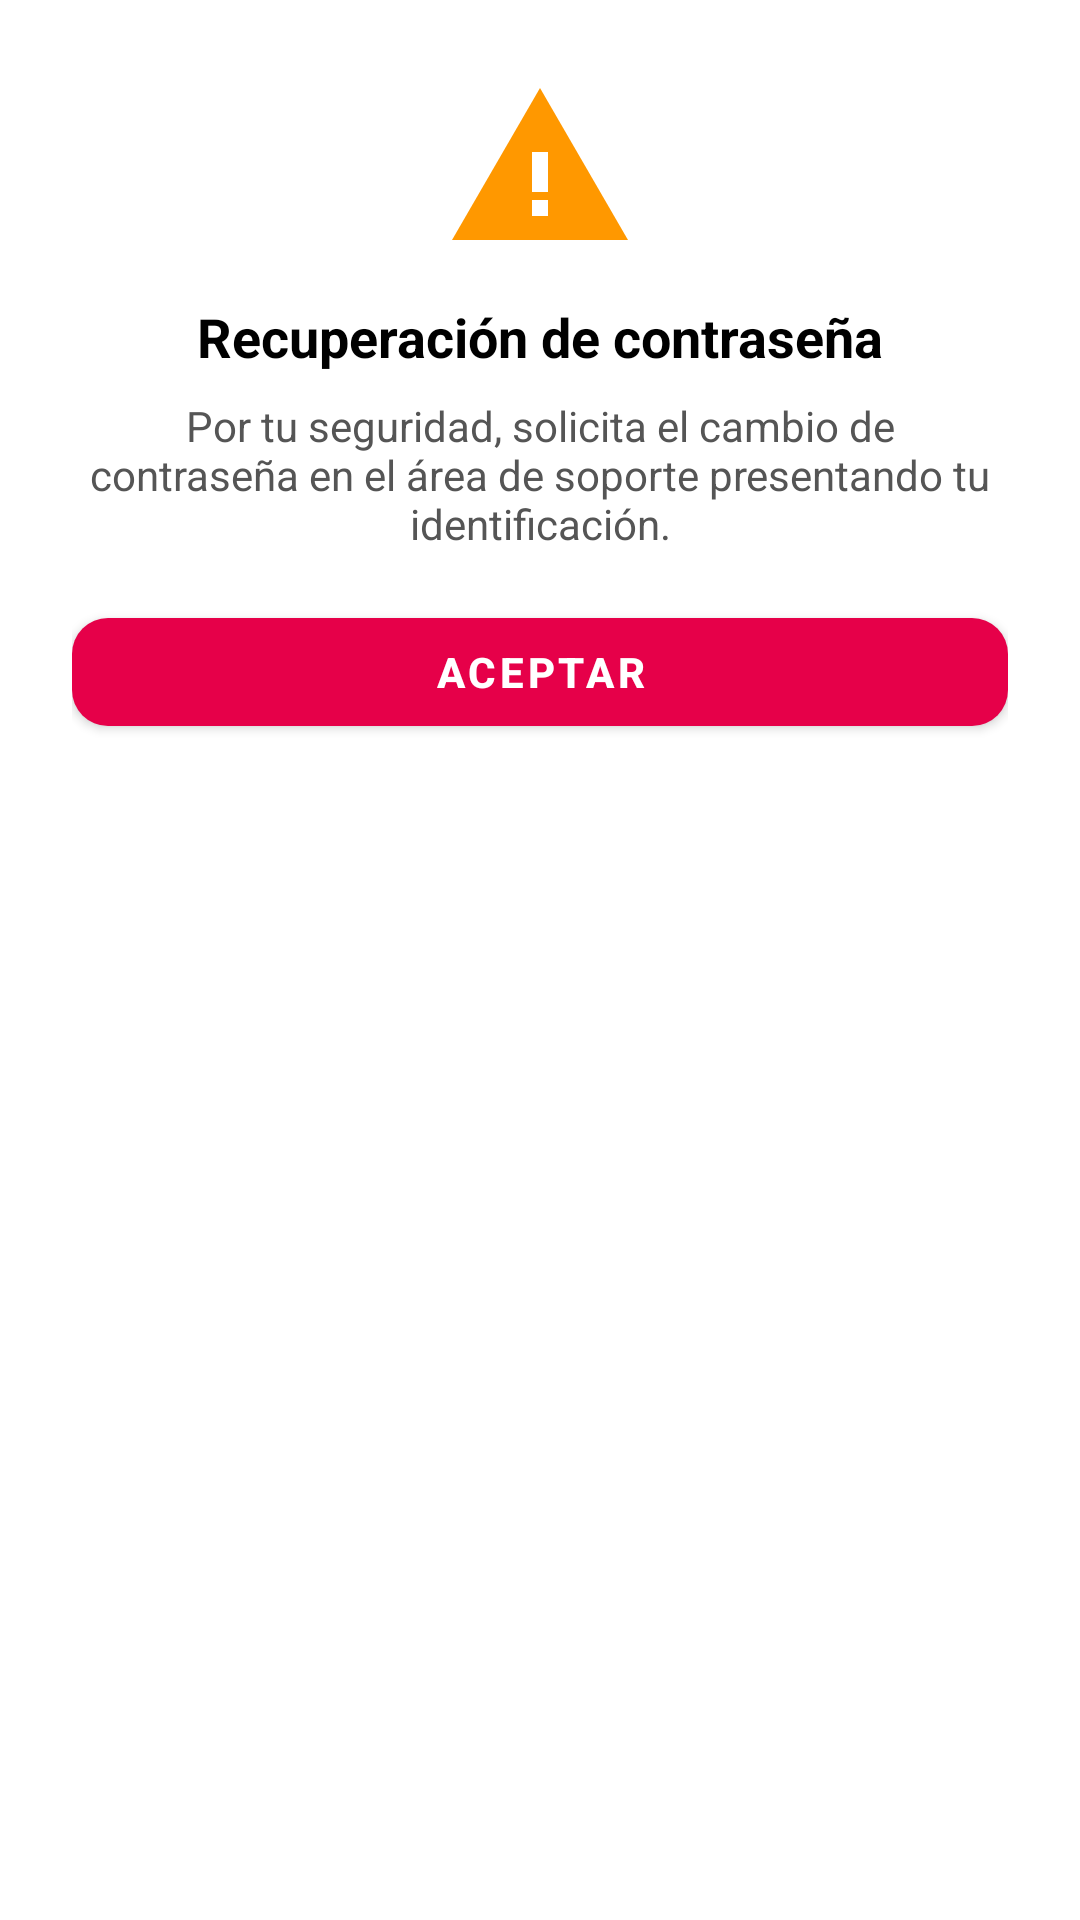

Where icons sit on this 1080w x 1920h app screen, as {"left": x1, "top": y1, "right": x2, "bottom": y2}:
warning: {"left": 452, "top": 88, "right": 628, "bottom": 240}
